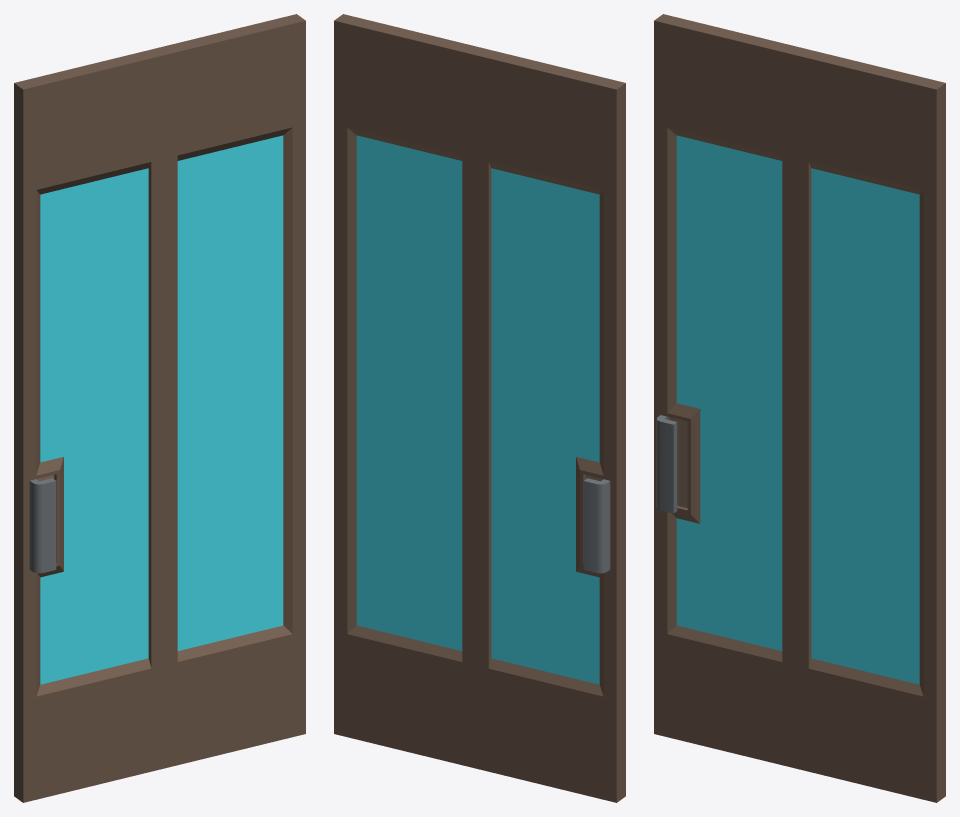
The model's file is SM_Buildings_Commercial_20_Door_R.fbx.
3 views of the same model, side by side, from view 1: azimuth 30°, elevation 25°; view 2: azimuth 150°, elevation 25°; view 3: azimuth 330°, elevation 25° (orthographic).
Parts seen in each view (by area): view 1: SM_Buildings_Commercial_20_Door_R; view 2: SM_Buildings_Commercial_20_Door_R; view 3: SM_Buildings_Commercial_20_Door_R.
Part boxes in pixels (<box>): SM_Buildings_Commercial_20_Door_R: <box>14,14,305,802</box>; SM_Buildings_Commercial_20_Door_R: <box>334,14,625,802</box>; SM_Buildings_Commercial_20_Door_R: <box>654,14,945,802</box>.
Bounding box in the file's own units: 0.9442 × 2.28 × 0.1318.
